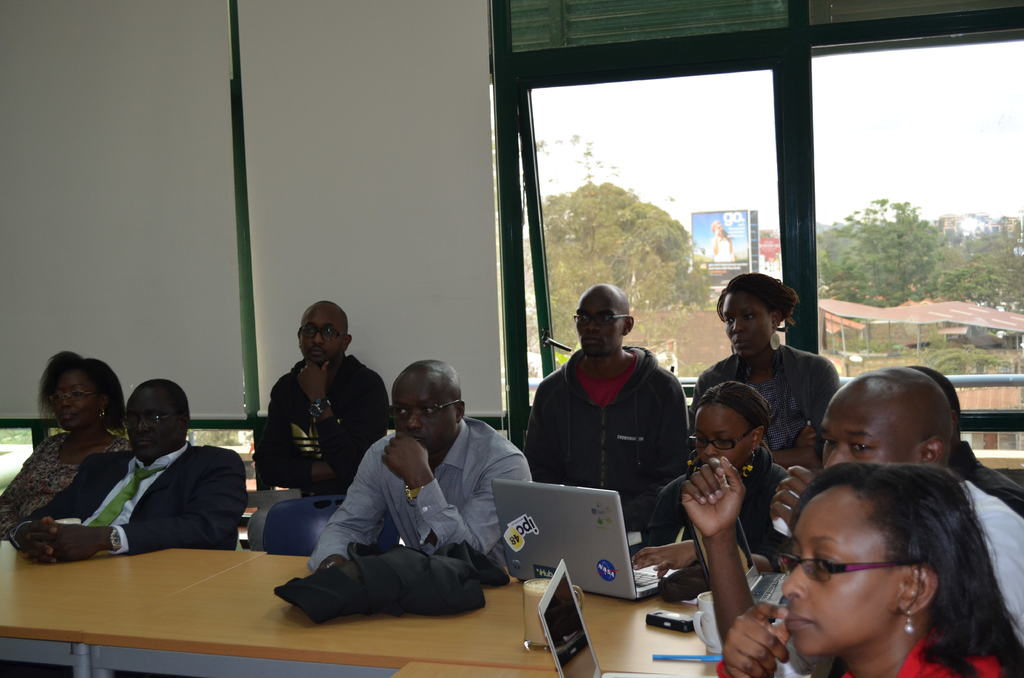Human-face: (774, 480, 906, 652), (822, 387, 922, 466), (383, 370, 456, 451), (696, 403, 753, 472), (126, 387, 177, 462), (722, 291, 774, 359), (575, 290, 627, 353), (51, 375, 106, 429), (300, 304, 344, 364)
